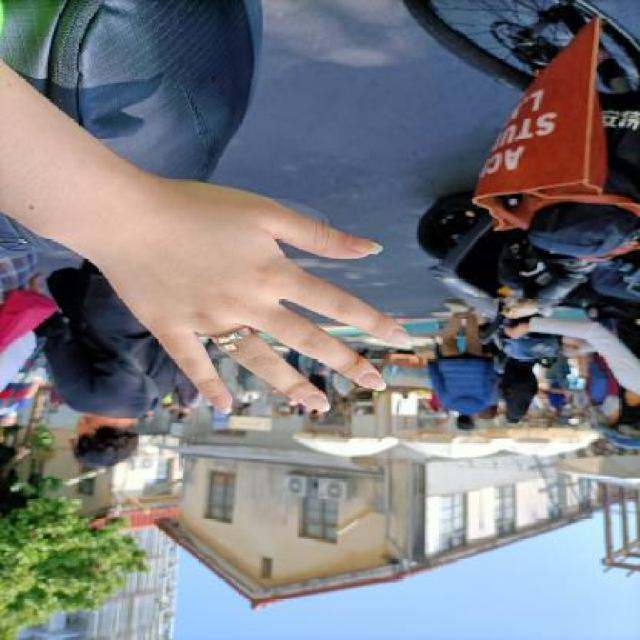bare_hand: (70, 170, 422, 427)
